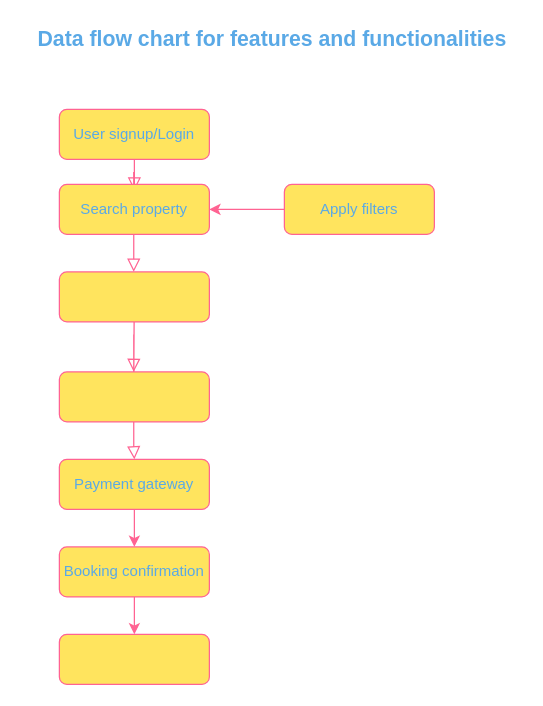
This 543x706 diagram has some shape labels left out. Here are the shapes that lost their labels. From the top down, the centre of each, then its label:
At point (133, 296): "View property details".
At point (133, 396): "Book property".
At point (133, 658): "Email Notification".
